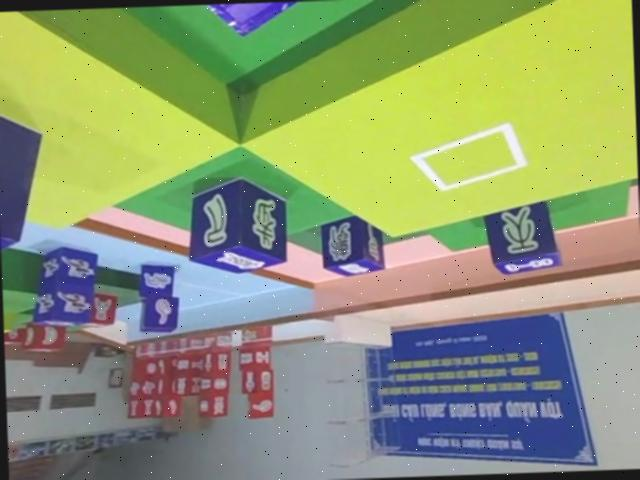R2 Fake Blue: (182, 172, 287, 273), (0, 73, 44, 268), (482, 198, 563, 276), (320, 214, 386, 278)
R2 Real Blue: (134, 264, 178, 336)
